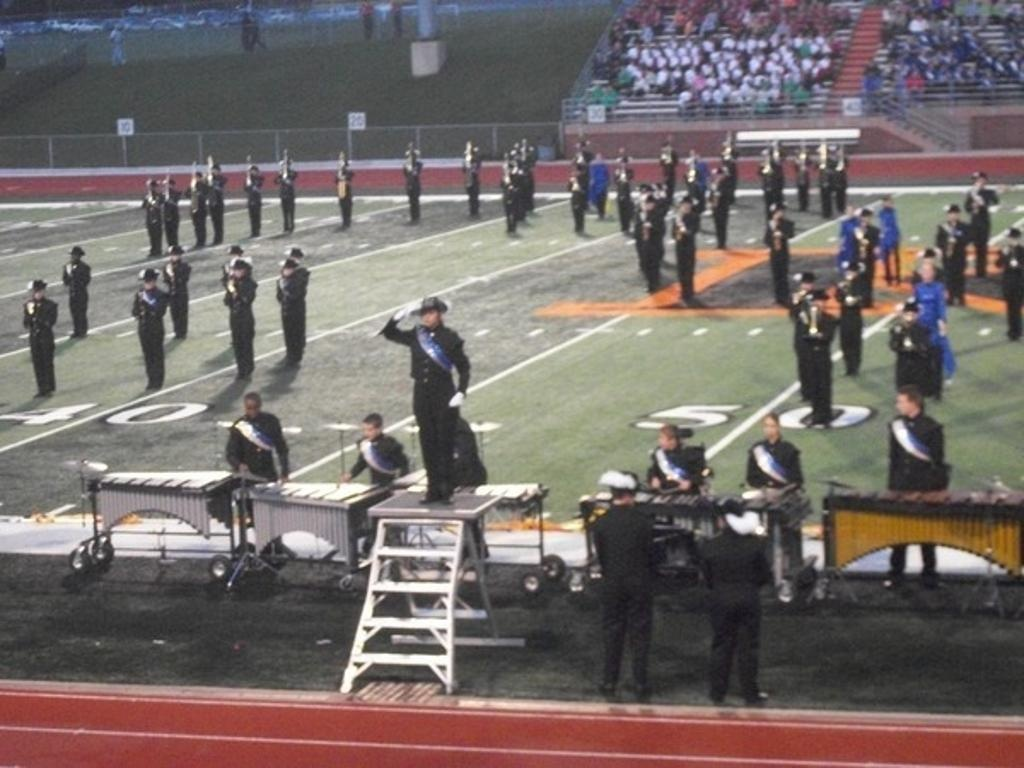human_face: (896, 392, 910, 414), (362, 421, 376, 440), (421, 308, 437, 324), (244, 398, 258, 416), (762, 419, 776, 436), (658, 430, 670, 449), (920, 266, 932, 282), (901, 312, 913, 324), (143, 276, 153, 288), (230, 268, 242, 278), (924, 256, 934, 266), (1006, 236, 1016, 246), (810, 300, 818, 312), (844, 271, 852, 281), (948, 210, 956, 220), (972, 178, 980, 188), (32, 288, 42, 296), (168, 251, 178, 259), (68, 250, 76, 260), (679, 202, 687, 212), (773, 208, 781, 218), (799, 282, 807, 290), (882, 199, 890, 207), (281, 266, 289, 274), (230, 252, 238, 260), (644, 202, 652, 210), (716, 171, 724, 179), (288, 254, 294, 262), (593, 152, 599, 160), (282, 162, 288, 170), (664, 144, 670, 152), (861, 216, 867, 222), (248, 169, 254, 175), (211, 167, 217, 173), (619, 160, 625, 166), (574, 167, 580, 173), (834, 150, 840, 156), (724, 147, 730, 153), (822, 150, 826, 158), (149, 183, 153, 189), (409, 154, 413, 160), (468, 152, 472, 158), (508, 166, 512, 172), (576, 145, 582, 149), (764, 154, 768, 160), (800, 152, 806, 156), (194, 174, 198, 178), (167, 182, 171, 186), (341, 164, 345, 168), (690, 150, 694, 154)
